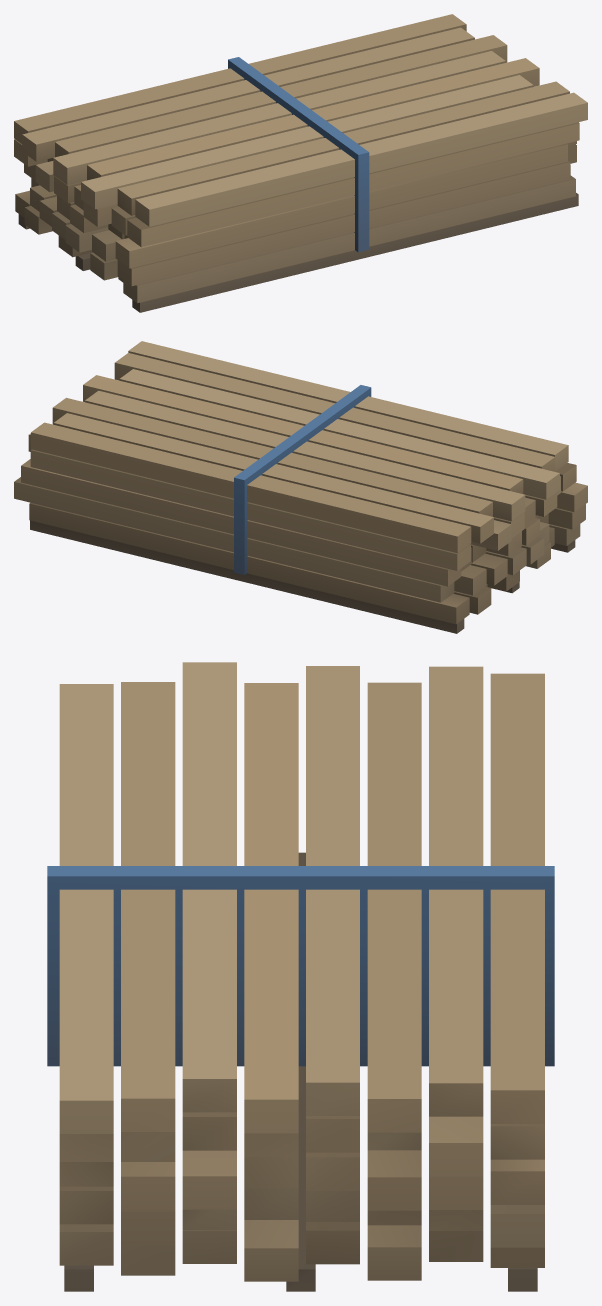
The model's file is timber.glb.
The picture shows the model from 3 angles, top to bottom: view 1: azimuth 30°, elevation 25°; view 2: azimuth 150°, elevation 25°; view 3: azimuth 270°, elevation 25°; orthographic projection. The views are drawn at different scales.
Visible parts, largest first — view 1: timber; view 2: timber; view 3: timber.
Boxes of the visible parts, x1,y1,x2,y2 form: timber: (14, 14, 587, 312); timber: (14, 341, 587, 633); timber: (47, 662, 554, 1291).
Bounding box in the file's own units: 4.27 × 0.95 × 2.06.
